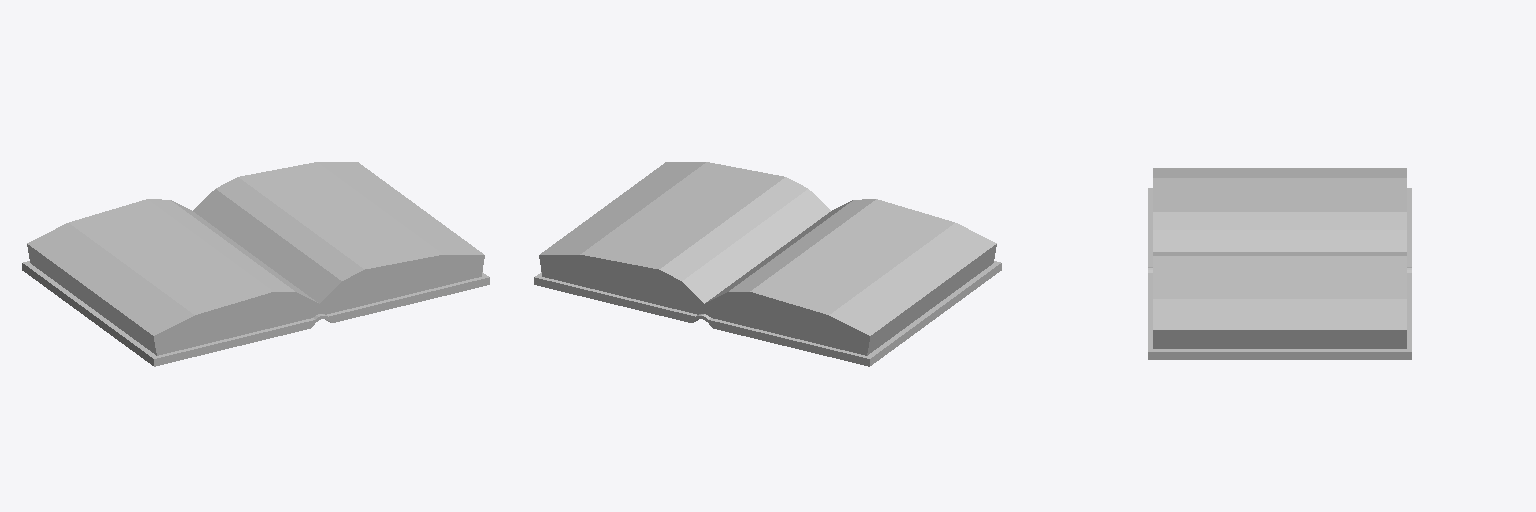
File: homedecor_book_open.obj
3 renders of one model, left to right at view 1: azimuth 30°, elevation 25°; view 2: azimuth 150°, elevation 25°; view 3: azimuth 270°, elevation 25°, orthographic.
Visible parts, largest first — view 1: Cube.002_Cube.001; view 2: Cube.002_Cube.001; view 3: Cube.002_Cube.001.
Part boxes in pixels (x1,y1,x2,y2): Cube.002_Cube.001: (22, 162, 489, 366); Cube.002_Cube.001: (534, 162, 1001, 366); Cube.002_Cube.001: (1148, 168, 1411, 359).
Bounding box in the file's own units: 0.6427 × 0.0793 × 0.4372.